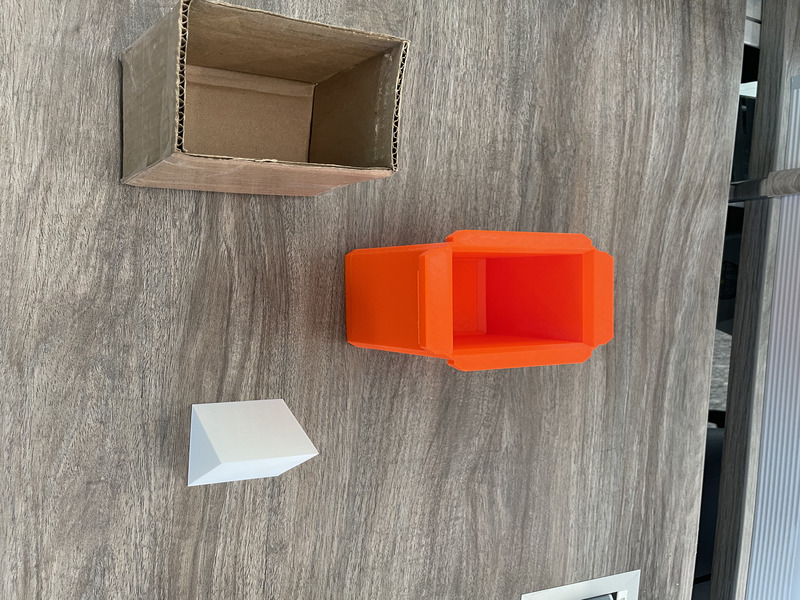payload1: (335, 216, 624, 378)
payload2: (178, 391, 326, 495)
payload3: (90, 1, 416, 203)
